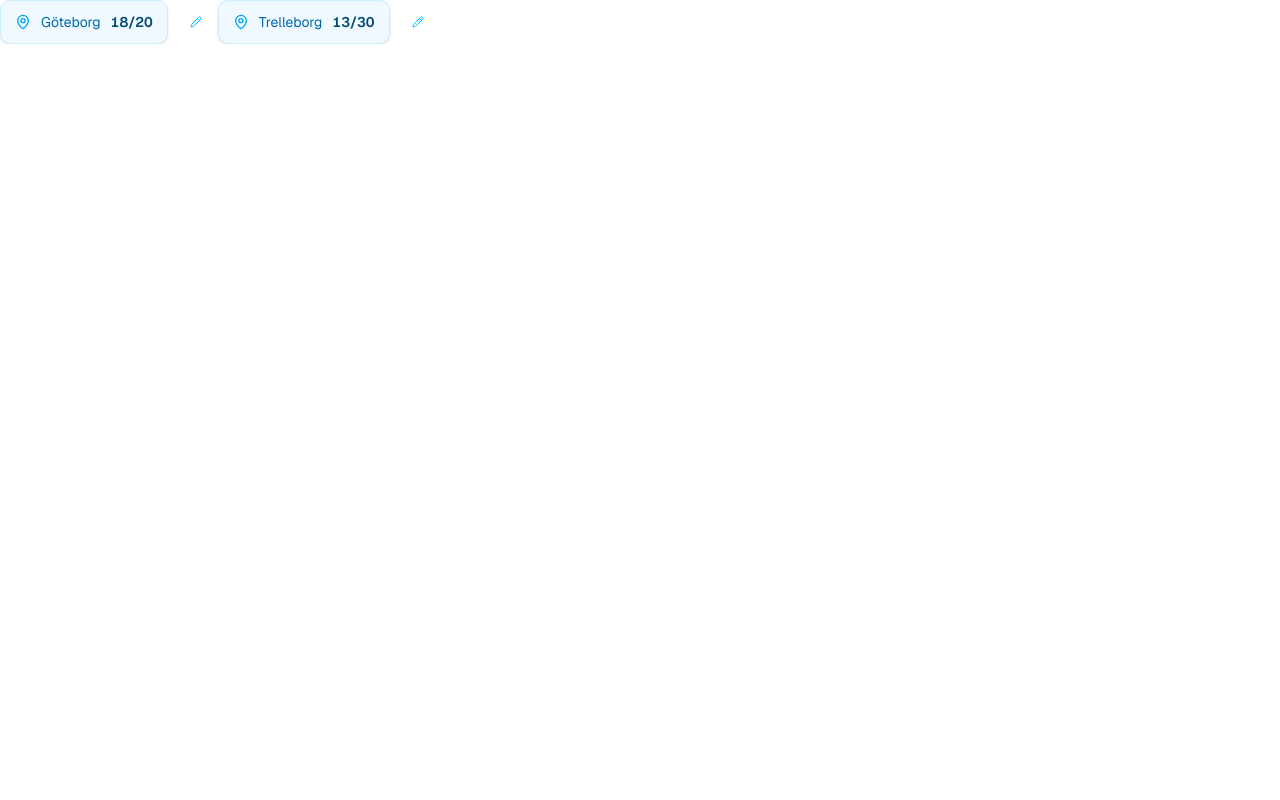
Edit Staffing Needs Integration › clicking pencil icon opens the edit modal with correct values
Click the 1st button with test id "pencil-icon" at coordinates (196, 22), box [174, 0, 218, 44]
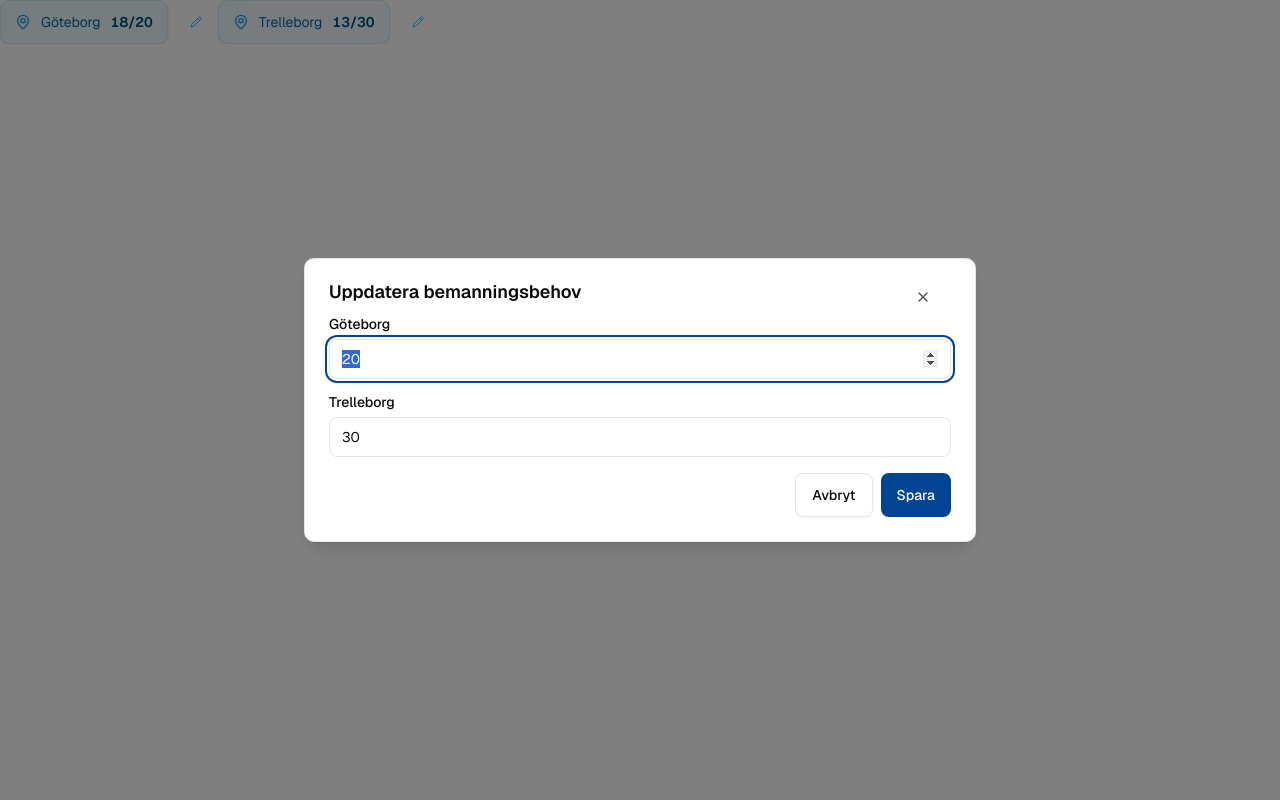
Check: the heading "Uppdatera bemanningsbehov" is shown, box [329, 280, 582, 303]
Check: the number field labelled "Trelleborg" holds "30", box [329, 417, 951, 457]
Check: the number field labelled "Göteborg" holds "20", box [329, 339, 951, 379]
